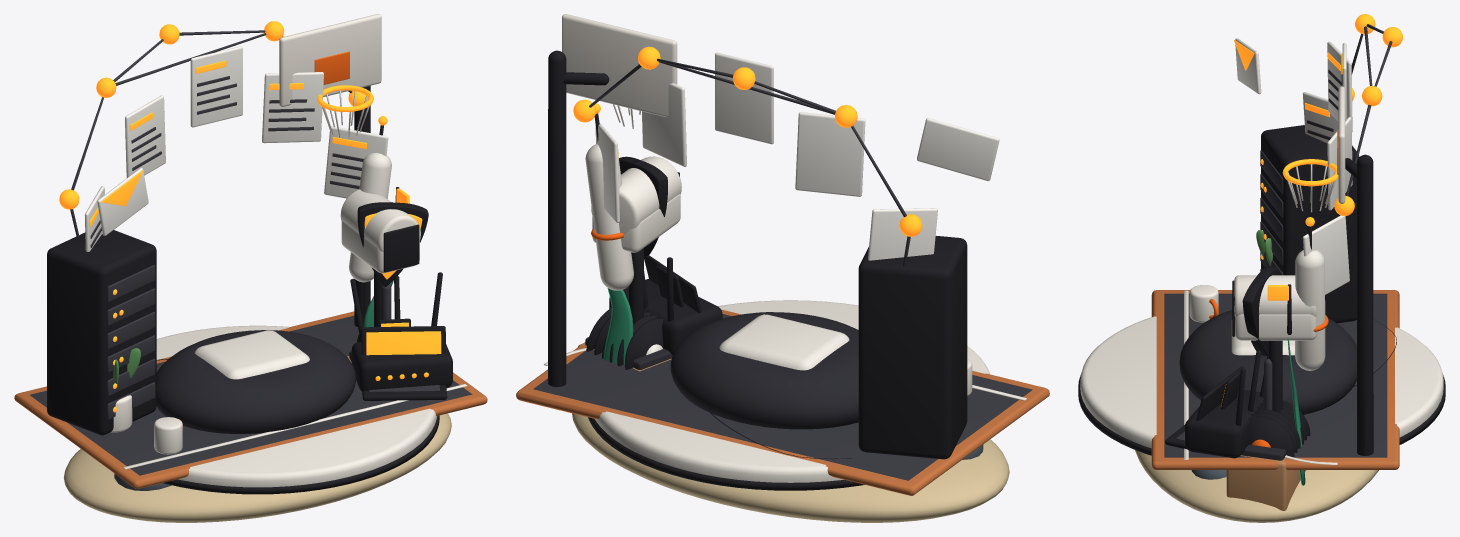
Rendered from sets.glb.
The picture shows the model from 3 angles, left to right: view 1: azimuth 30°, elevation 25°; view 2: azimuth 150°, elevation 25°; view 3: azimuth 270°, elevation 25°; orthographic projection. The views are drawn at different scales.
Parts seen in each view (by area): view 1: rack, beanbag, plinth, sand, floor, board, court, router, float_card3, float_card2, cube_seat, mailbox (+20 smaller); view 2: rack, beanbag, floor, sand, plinth, board, hoop, court, float_card1, mailbox, cube_seat, float_card2 (+13 smaller); view 3: plinth, floor, rack, beanbag, sand, court, hoop, mailbox, router, crate, float_argo, records (+18 smaller).
Part boxes in pixels (x1,y1,x2,y2): rack: (47, 230, 156, 435); beanbag: (156, 330, 355, 433); plinth: (156, 325, 437, 487); sand: (64, 413, 451, 522); floor: (30, 315, 472, 475); board: (279, 14, 381, 106); court: (14, 311, 487, 488); router: (350, 272, 452, 391); float_card3: (262, 72, 323, 143); float_card2: (190, 46, 242, 127); cube_seat: (194, 330, 309, 379); mailbox: (340, 189, 420, 326); rack: (858, 236, 967, 459); beanbag: (670, 312, 858, 429); floor: (533, 314, 1032, 480); sand: (572, 413, 1009, 522); plinth: (594, 300, 989, 482); board: (562, 14, 677, 117); hoop: (548, 50, 609, 386); court: (516, 309, 1049, 495); float_card1: (795, 112, 865, 196); mailbox: (591, 156, 681, 323); cube_seat: (719, 314, 849, 370); float_card2: (715, 52, 773, 144); plinth: (1080, 316, 1443, 448); floor: (1164, 293, 1387, 457); rack: (1260, 125, 1359, 323); beanbag: (1179, 310, 1356, 414); sand: (1135, 450, 1378, 522); court: (1151, 290, 1399, 469); hoop: (1345, 154, 1373, 455); mailbox: (1234, 275, 1316, 413); router: (1185, 350, 1268, 458); crate: (1226, 444, 1306, 510); float_argo: (1295, 226, 1328, 370); records: (1248, 400, 1310, 457).
Size of the model in its own units: 3.1 by 3.35 by 2.67.
